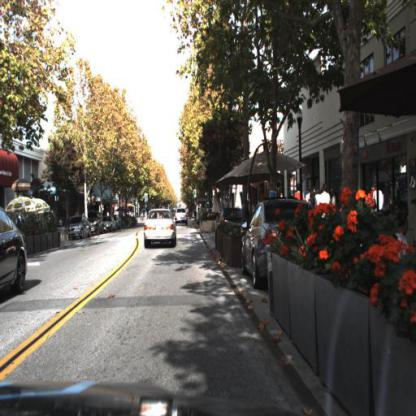car: (240, 198, 310, 288), (139, 206, 179, 252), (68, 213, 92, 240), (90, 209, 104, 237), (175, 206, 190, 227)
pedestrian: (319, 180, 331, 207), (293, 182, 307, 200)
